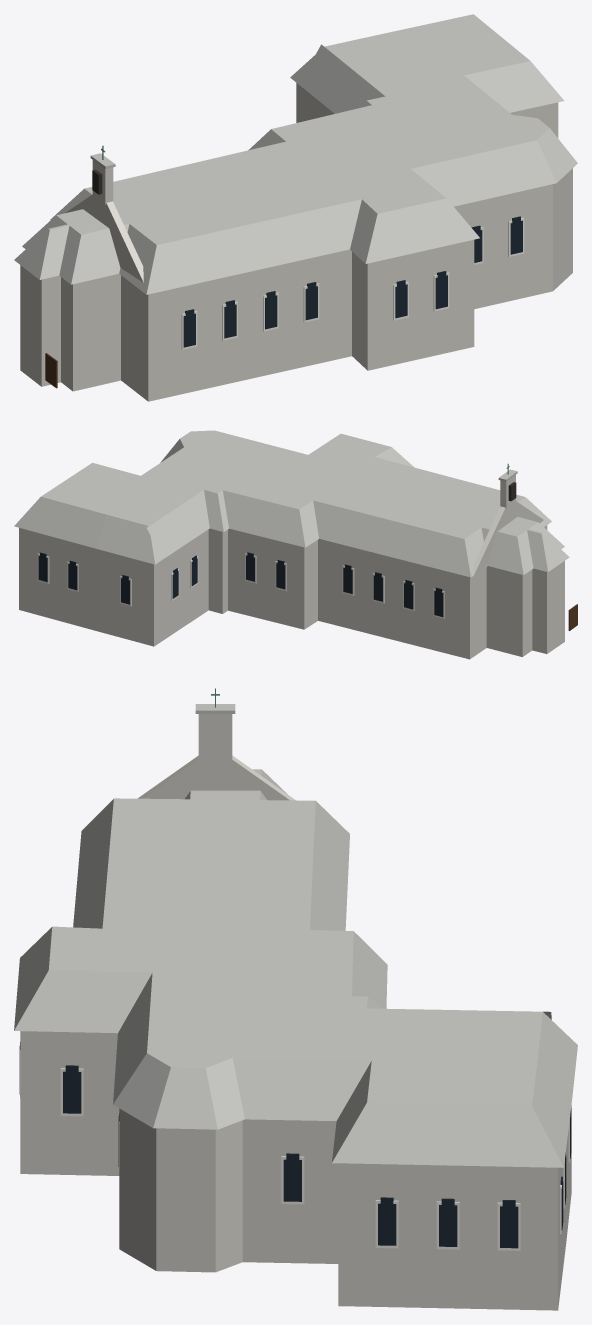
The model's file is st-marien.glb.
The picture shows the model from 3 angles, top to bottom: view 1: azimuth 30°, elevation 25°; view 2: azimuth 150°, elevation 25°; view 3: azimuth 270°, elevation 25°; orthographic projection. The views are drawn at different scales.
Visible parts, largest first — view 1: st-marien_lod0; view 2: st-marien_lod0; view 3: st-marien_lod0.
Boxes of the visible parts, box(x1,y1,x2,y2) form: st-marien_lod0: box(14, 14, 577, 401); st-marien_lod0: box(14, 430, 577, 659); st-marien_lod0: box(14, 688, 577, 1310).
Size of what is drawn, in the model's own units: 58.67 by 21.1 by 36.9.
